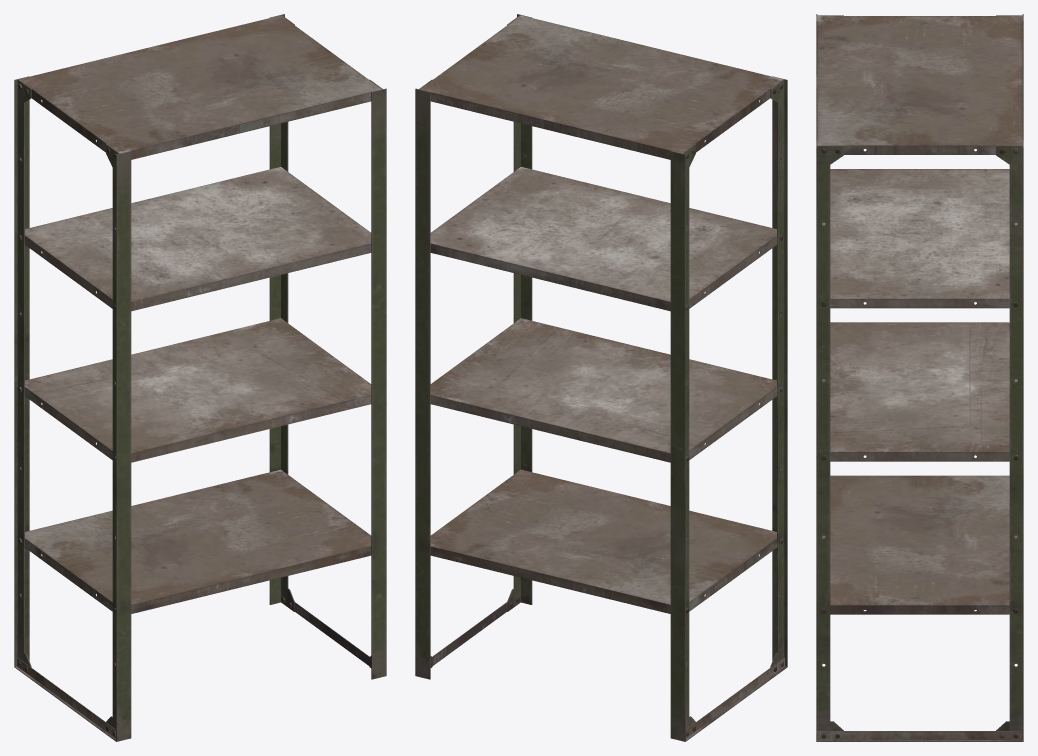
The model's file is worn_metal_rack.glb.
3 views of the same model, side by side, from view 1: azimuth 30°, elevation 25°; view 2: azimuth 150°, elevation 25°; view 3: azimuth 270°, elevation 25° (orthographic).
Visible parts, largest first — view 1: worn_metal_rack; view 2: worn_metal_rack; view 3: worn_metal_rack.
Boxes of the visible parts, left/top/right/bottom form: worn_metal_rack: left=14, top=14, right=386, bottom=741; worn_metal_rack: left=415, top=14, right=787, bottom=741; worn_metal_rack: left=816, top=14, right=1023, bottom=741.
Size of the model in its own units: 0.9154 by 1.9 by 0.6.
1 material, 1 textured.
